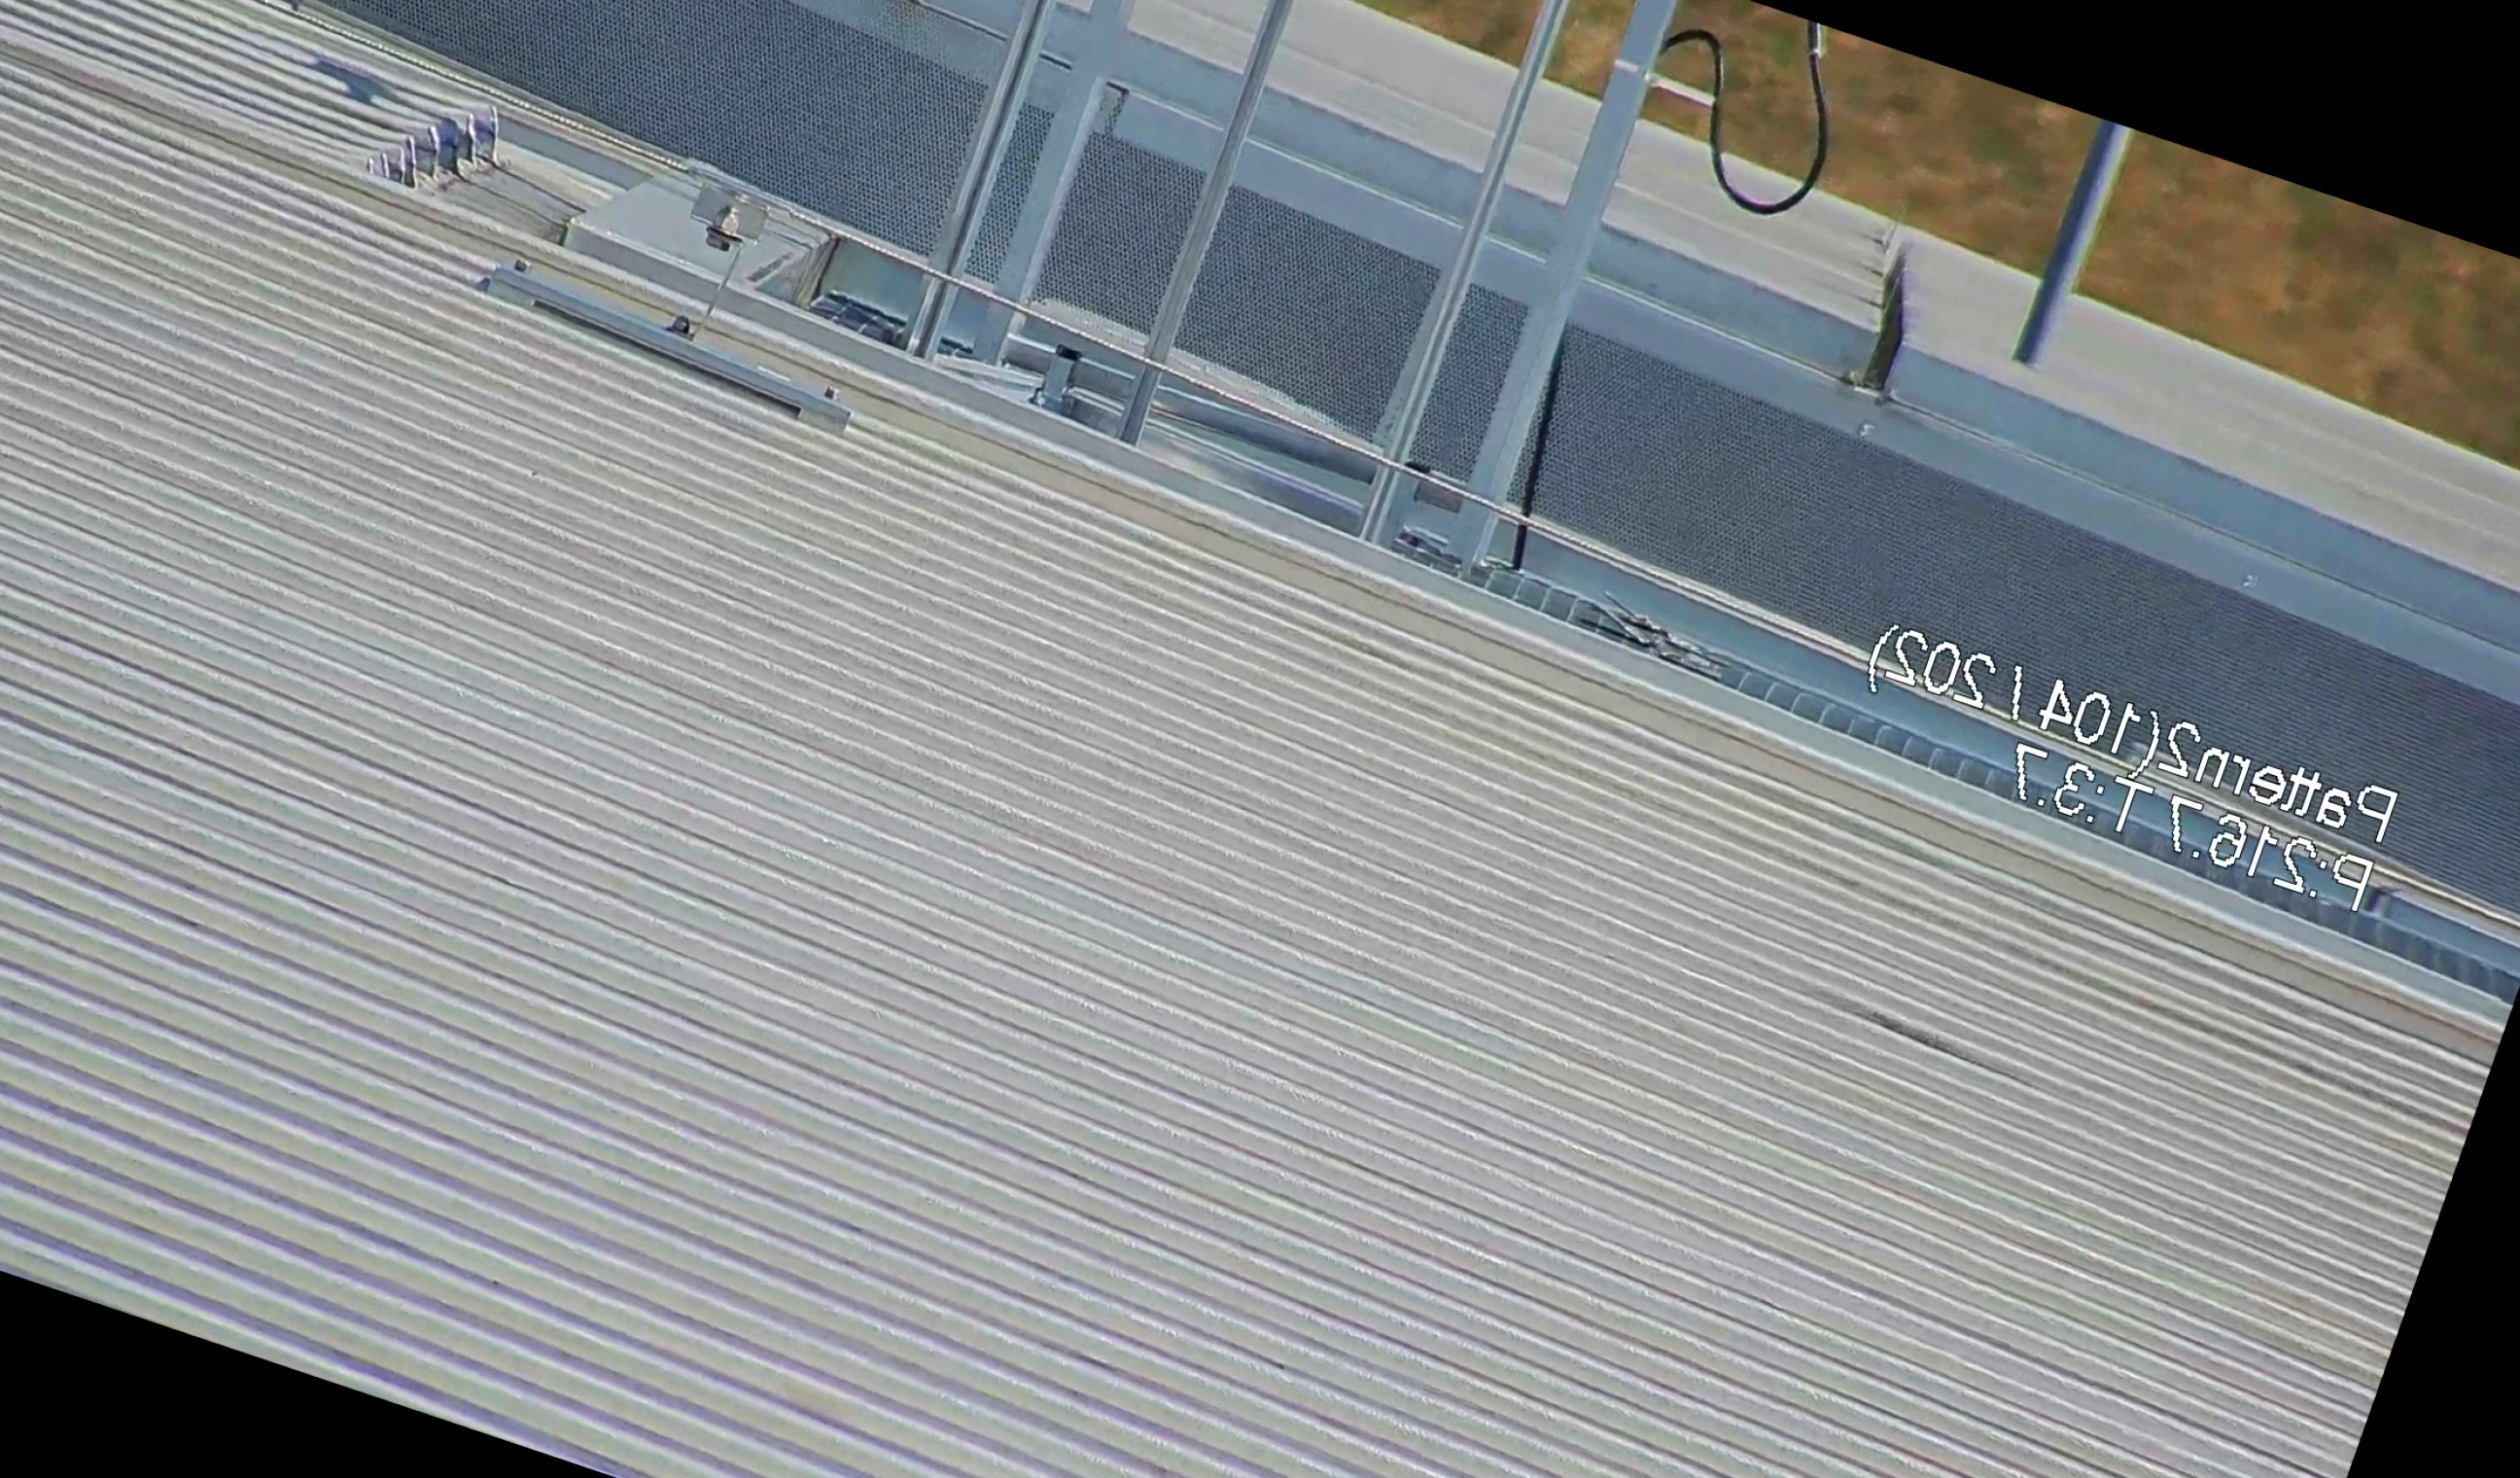Other: (1836, 223, 1957, 405)
